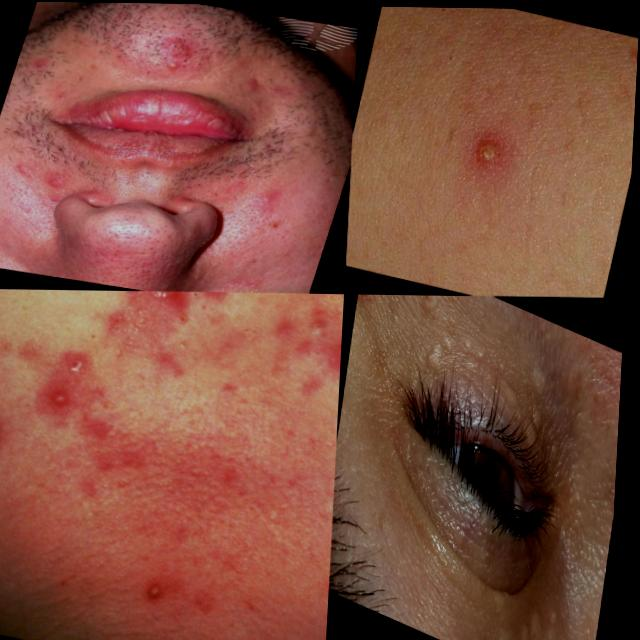8: (184, 290, 254, 312), (250, 180, 299, 211), (39, 167, 76, 195), (153, 54, 193, 77), (161, 34, 196, 58), (233, 68, 267, 92), (9, 155, 41, 178), (20, 58, 46, 72)
9: (455, 103, 539, 196), (130, 564, 174, 612), (296, 305, 344, 344), (42, 378, 78, 419)
blackheads: (411, 297, 512, 411), (503, 383, 560, 448), (514, 340, 563, 396), (522, 598, 553, 640), (545, 602, 571, 640), (0, 395, 9, 471), (130, 289, 184, 300), (501, 615, 524, 640)
